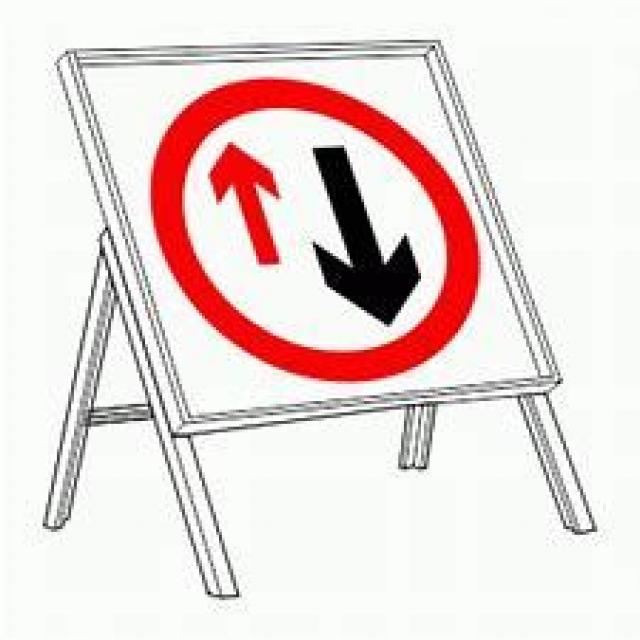PRIORITY_FOR_ONCOMING_VEHICLES: (145, 71, 478, 378)
